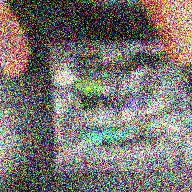러키펜정: (53, 69, 77, 87)
씨엠지세파클러캡슐: (117, 93, 142, 125)
에르도캡슐: (81, 129, 128, 145)
휴티렌정: (74, 79, 108, 94)
